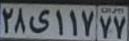character: (28, 7, 52, 37), (80, 7, 96, 40), (112, 14, 129, 41), (67, 7, 80, 40), (1, 5, 15, 35), (13, 6, 27, 35), (98, 13, 113, 40), (53, 7, 66, 38)
